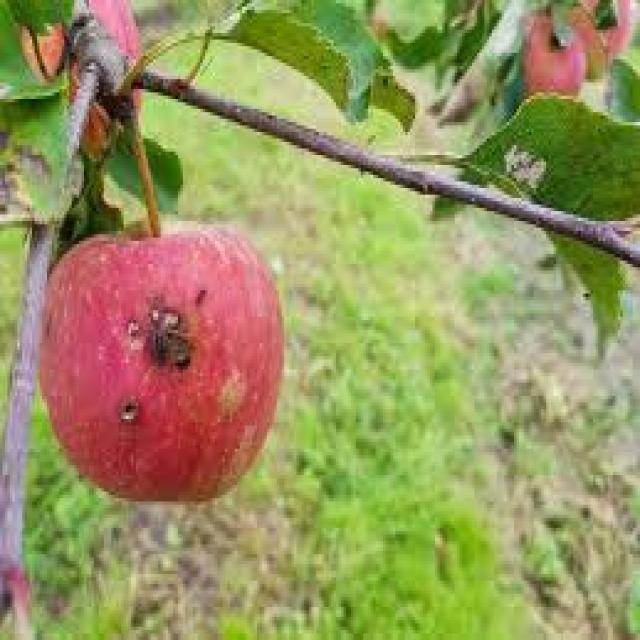Rotten Apple: (43, 231, 285, 503)
